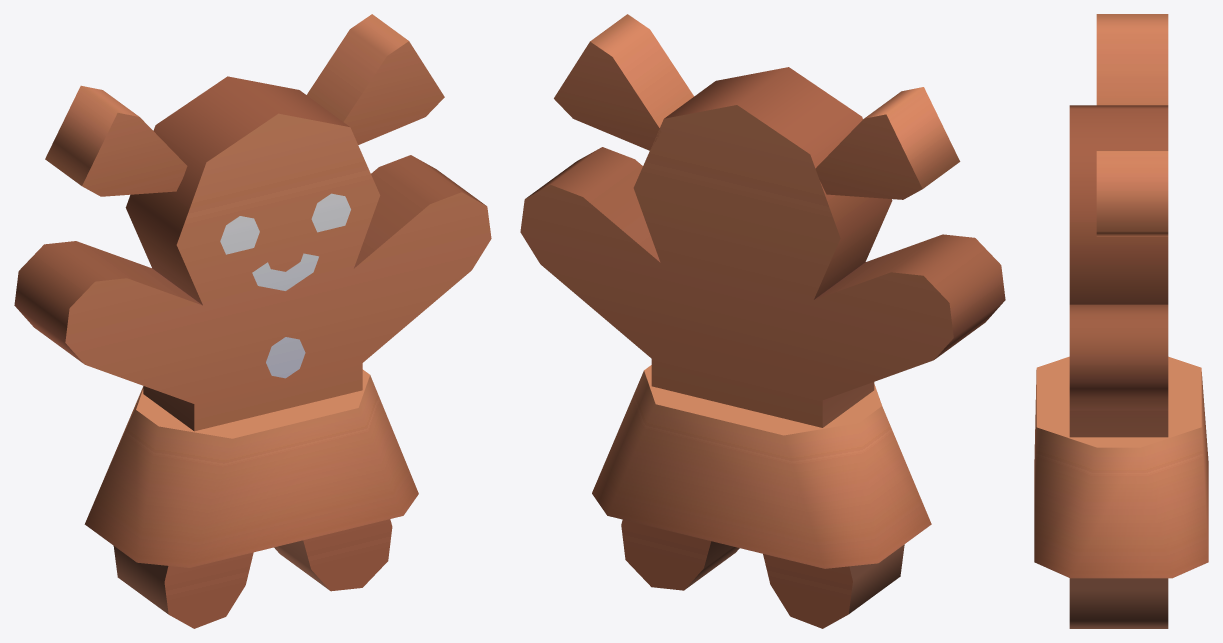
File: pepparkaksgumma.glb
The picture shows the model from 3 angles, left to right: view 1: azimuth 30°, elevation 25°; view 2: azimuth 150°, elevation 25°; view 3: azimuth 270°, elevation 25°; orthographic projection. The views are drawn at different scales.
Visible parts, largest first — view 1: gingerbread-woman, Group; view 2: gingerbread-woman, Group; view 3: gingerbread-woman, Group.
Boxes of the visible parts, x1,y1,x2,y2 form: gingerbread-woman: (14,14,491,628); Group: (84,369,418,567); gingerbread-woman: (520,14,1005,628); Group: (592,365,931,568); gingerbread-woman: (1069,14,1168,628); Group: (1034,356,1208,578).
Size of the model in its own units: 0.3393 by 0.397 by 0.1237.
1 material, 1 textured.
